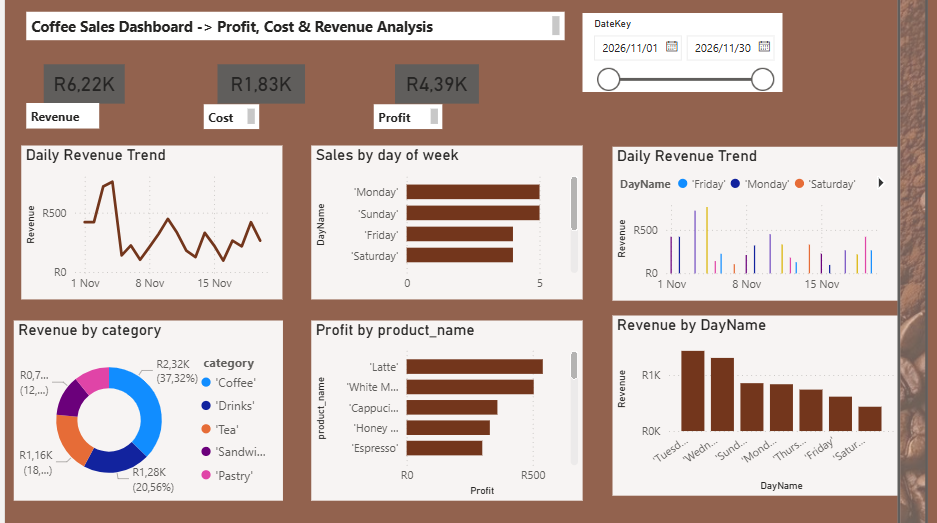

What the dashboard file says about the page in this screenshot:
{"tool":"powerbi","page":{"name":"Page 1","canvas":[1280,720],"ordinal":0},"visuals":[{"type":"card","fields":{"Values":["calendar.Revenue"]},"box":[43,78,89,43],"z":0},{"type":"card","fields":{"Values":["calendar.Cost"]},"box":[233,78,96,43],"z":1000},{"type":"card","fields":{"Values":["calendar.Profit"]},"box":[427,78,92,43],"z":2000},{"type":"lineChart","title":"Daily Revenue Trend","fields":{"Category":["calendar.DateKey"],"Y":["calendar.Revenue"]},"box":[18.4,167.8,286.2,169],"z":3000},{"type":"donutChart","fields":{"Category":["coffeemenu. category"],"Y":["calendar.Revenue"]},"box":[9.2,359.8,295.4,197.7],"z":4000},{"type":"clusteredBarChart","title":"Sales by day of week","fields":{"Y":["CountNonNull(calendar.DateKey)"],"Category":["calendar. DayName"]},"box":[335.6,167.8,297.7,169],"z":5000},{"type":"barChart","fields":{"Category":["coffeemenu. product_name"],"Y":["calendar.Profit"]},"box":[335.6,359.8,297.7,197.7],"z":6000},{"type":"clusteredColumnChart","fields":{"Category":["calendar. DayName"],"Y":["calendar.Revenue"]},"box":[665.5,354,313.8,197.7],"z":7000},{"type":"clusteredColumnChart","title":"Daily Revenue Trend","fields":{"Category":["calendar.DateKey"],"Y":["calendar.Revenue"],"Series":["calendar. DayName"]},"box":[665.5,169,313.8,169],"z":8000},{"type":"slicer","fields":{"Values":["calendar.DateKey"]},"box":[633.3,21.8,218.4,86.2],"z":9000},{"type":"textbox","box":[23,121,80,28],"z":10000},{"type":"textbox","box":[218,122,61,27],"z":11000},{"type":"textbox","box":[405,122,75,27],"z":12000},{"type":"textbox","box":[23,21,590,31],"z":13000},{"type":"actionButton","box":[979.3,0,33.3,719.5],"z":14000}]}

Visuals, with their boxes in screenshot pixels (x1, y1, x2, y2), scaled from the page's 1280x720 canvas onto the 937x523 screenshot:
card - calendar.Revenue: (left=31, top=57, right=97, bottom=88)
card - calendar.Cost: (left=171, top=57, right=241, bottom=88)
card - calendar.Profit: (left=313, top=57, right=380, bottom=88)
"Daily Revenue Trend" lineChart: (left=13, top=122, right=223, bottom=245)
donutChart - coffeemenu. category x calendar.Revenue: (left=7, top=261, right=223, bottom=405)
"Sales by day of week" clusteredBarChart: (left=246, top=122, right=464, bottom=245)
barChart - coffeemenu. product_name x calendar.Profit: (left=246, top=261, right=464, bottom=405)
clusteredColumnChart - calendar. DayName x calendar.Revenue: (left=487, top=257, right=717, bottom=401)
"Daily Revenue Trend" clusteredColumnChart: (left=487, top=123, right=717, bottom=246)
slicer - calendar.DateKey: (left=464, top=16, right=623, bottom=78)
textbox: (left=17, top=88, right=75, bottom=108)
textbox: (left=160, top=89, right=204, bottom=108)
textbox: (left=296, top=89, right=351, bottom=108)
textbox: (left=17, top=15, right=449, bottom=38)
actionButton: (left=717, top=0, right=741, bottom=522)
